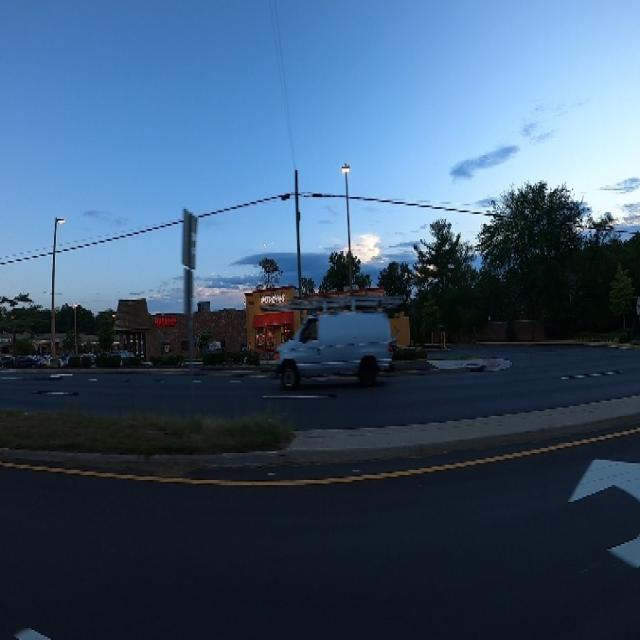cars: (265, 297, 398, 395)
